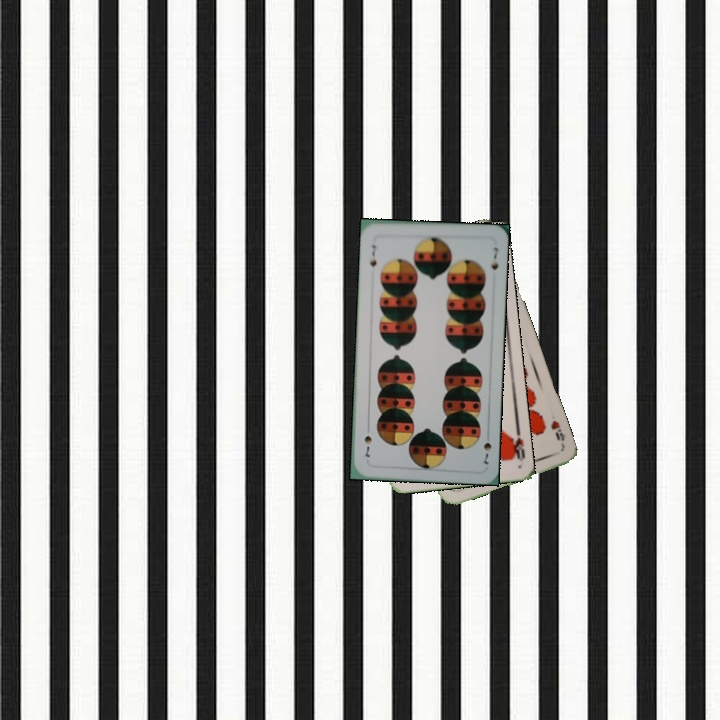H9: (547, 416, 568, 449)
HO: (506, 424, 527, 464)
S7: (479, 428, 494, 467), (366, 241, 379, 269)
